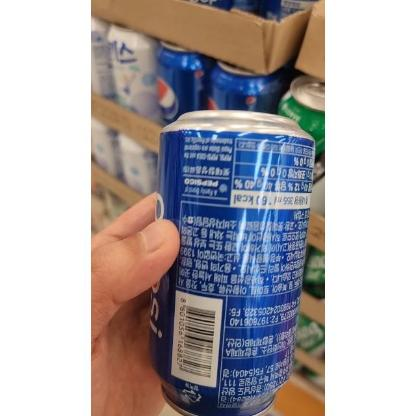Can: (148, 108, 316, 416)
